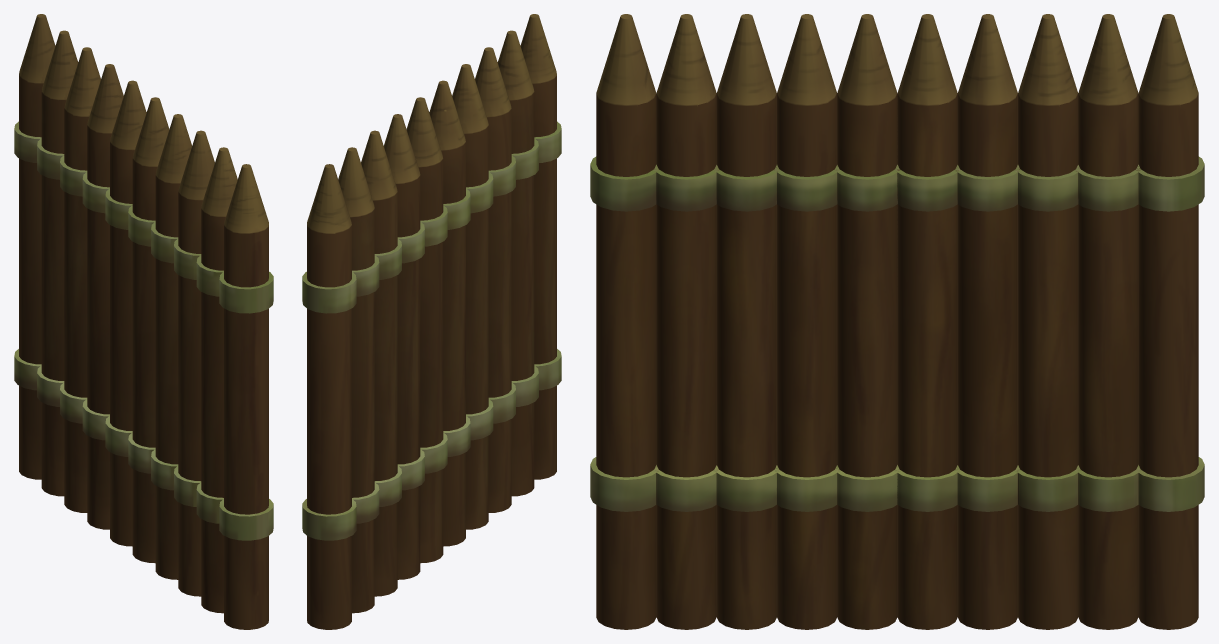
Rendered from Wall_Big_1.fbx.
3 renders of one model, left to right at view 1: azimuth 30°, elevation 25°; view 2: azimuth 150°, elevation 25°; view 3: azimuth 270°, elevation 25°, orthographic. The views are drawn at different scales.
Parts seen in each view (by area): view 1: Wall_Big_1; view 2: Wall_Big_1; view 3: Wall_Big_1.
Part boxes in pixels (x1,y1,x2,y2): Wall_Big_1: (14,14,273,629); Wall_Big_1: (302,14,561,629); Wall_Big_1: (590,14,1204,629).
Bounding box in the file's own units: 24 × 220 × 204.
Materials: 1 (1 with a texture image).
